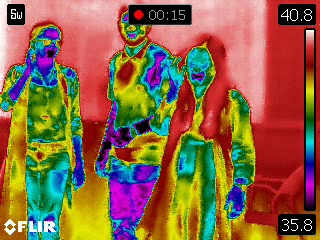human: (98, 5, 183, 240), (2, 17, 86, 240), (169, 32, 256, 240)
